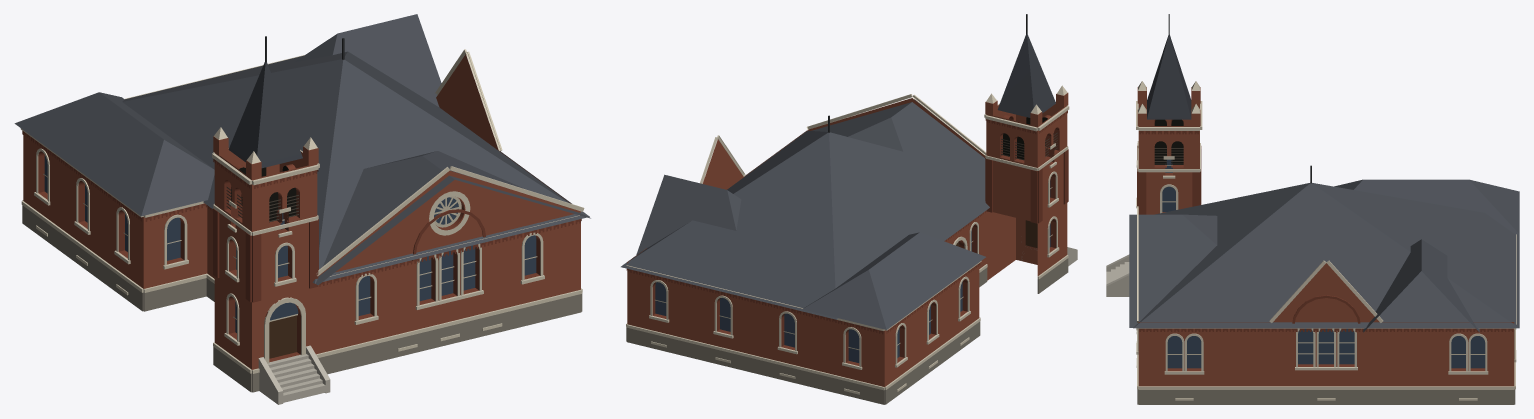
File: ch-scott-street-methodist-1913.glb
3 views of the same model, side by side, from view 1: azimuth 30°, elevation 25°; view 2: azimuth 150°, elevation 25°; view 3: azimuth 270°, elevation 25° (orthographic). The views are drawn at different scales.
Visible parts, largest first — view 1: ch_roof, ch_brick, ch_trim, ch_brick2, ch_base, ch_stain, ch_roof2, ch_conc, ch_door, ch_shadow; view 2: ch_roof, ch_brick, ch_trim, ch_base, ch_brick2, ch_roof2, ch_stain; view 3: ch_roof, ch_brick, ch_trim, ch_base, ch_stain, ch_brick2, ch_roof2, ch_conc, ch_shadow.
Part boxes in pixels (bbox=[...]): ch_roof: bbox=[14, 14, 590, 284]; ch_brick: bbox=[23, 54, 580, 369]; ch_trim: bbox=[20, 49, 584, 373]; ch_brick2: bbox=[22, 131, 581, 362]; ch_base: bbox=[22, 205, 582, 392]; ch_stain: bbox=[44, 155, 536, 332]; ch_roof2: bbox=[228, 62, 302, 168]; ch_conc: bbox=[258, 345, 330, 404]; ch_door: bbox=[269, 315, 296, 358]; ch_shadow: bbox=[231, 165, 296, 222]; ch_roof: bbox=[621, 99, 989, 329]; ch_brick: bbox=[627, 93, 1068, 386]; ch_trim: bbox=[626, 85, 1069, 394]; ch_base: bbox=[626, 258, 1068, 404]; ch_brick2: bbox=[626, 110, 1068, 365]; ch_roof2: bbox=[997, 34, 1055, 117]; ch_stain: bbox=[655, 180, 1050, 362]; ch_roof: bbox=[1129, 179, 1519, 332]; ch_brick: bbox=[1137, 87, 1514, 386]; ch_trim: bbox=[1136, 81, 1516, 400]; ch_base: bbox=[1137, 389, 1515, 404]; ch_stain: bbox=[1162, 159, 1485, 368]; ch_brick2: bbox=[1137, 119, 1513, 371]; ch_roof2: bbox=[1147, 35, 1191, 119]; ch_conc: bbox=[1106, 254, 1129, 296]; ch_shadow: bbox=[1154, 119, 1183, 164].
Bounding box in the file's own units: 21.05 × 19.59 × 26.95.
